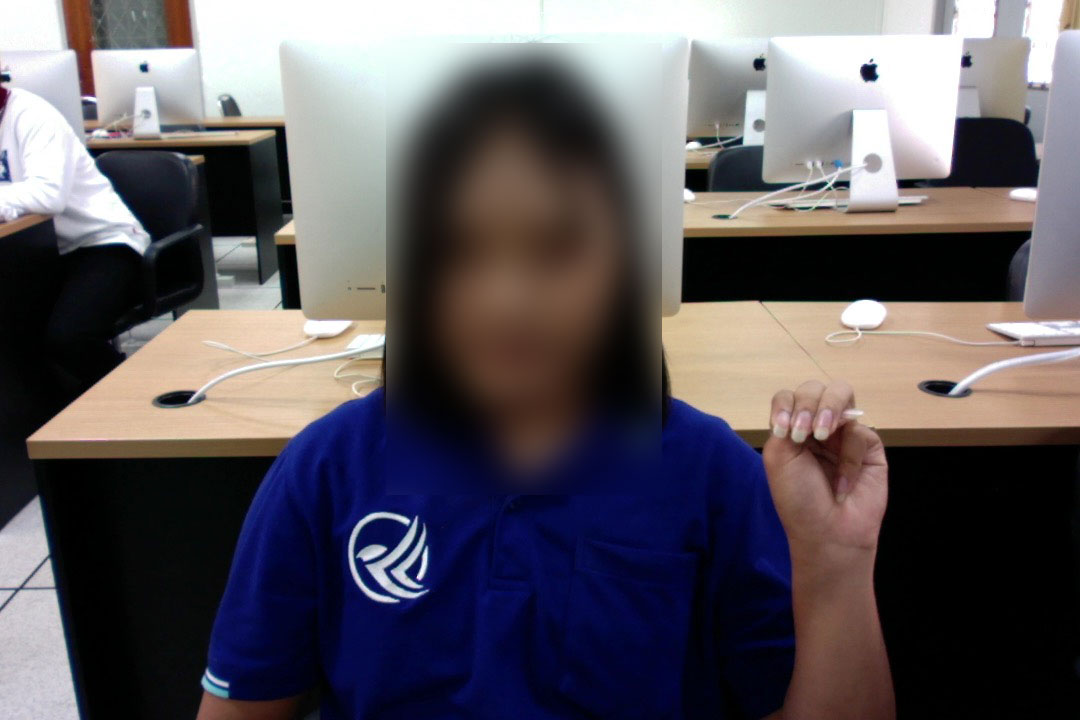mor: (758, 361, 899, 580)
